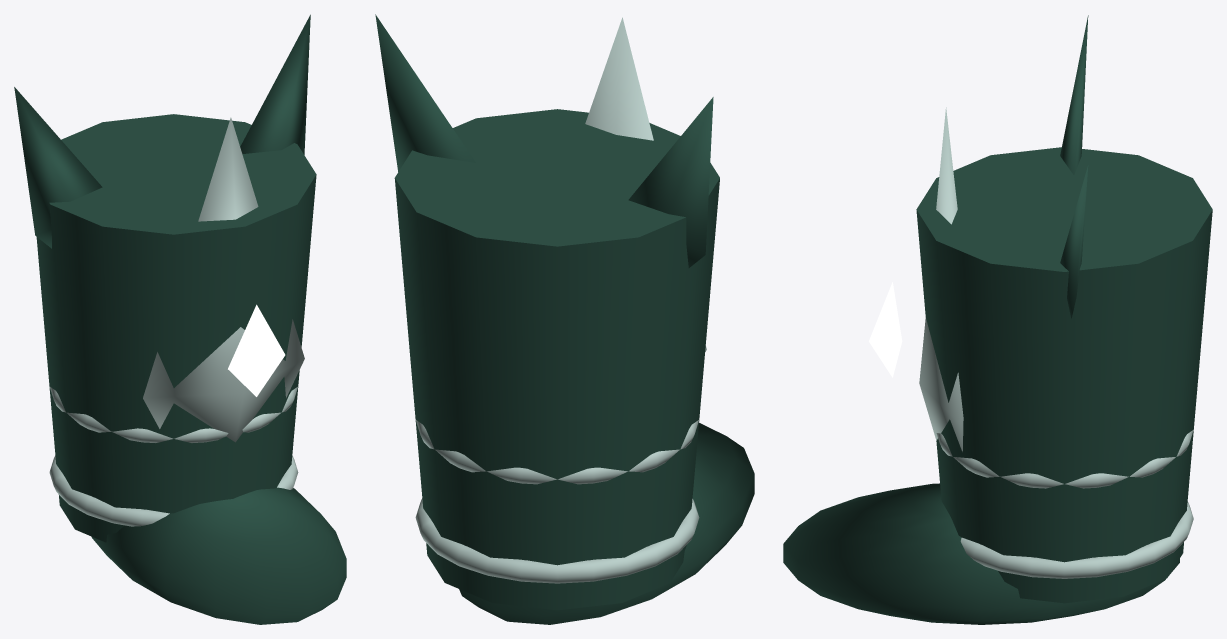
File: boss_grievance_of_the_fairy_boots_1.glb
3 views of the same model, side by side, from view 1: azimuth 30°, elevation 25°; view 2: azimuth 150°, elevation 25°; view 3: azimuth 270°, elevation 25° (orthographic). The views are drawn at different scales.
Visible parts, largest first — view 1: Boss_grievance_of_the_fairy_0, Boss_grievance_of_the_fairy_1, Boss_grievance_of_the_fairy_2; view 2: Boss_grievance_of_the_fairy_0, Boss_grievance_of_the_fairy_1; view 3: Boss_grievance_of_the_fairy_0, Boss_grievance_of_the_fairy_1, Boss_grievance_of_the_fairy_2.
Part boxes in pixels (x1,y1,x2,y2): Boss_grievance_of_the_fairy_0: [14, 14, 346, 624]; Boss_grievance_of_the_fairy_1: [49, 117, 304, 526]; Boss_grievance_of_the_fairy_2: [228, 304, 285, 396]; Boss_grievance_of_the_fairy_0: [375, 14, 754, 624]; Boss_grievance_of_the_fairy_1: [415, 17, 706, 583]; Boss_grievance_of_the_fairy_0: [783, 15, 1212, 624]; Boss_grievance_of_the_fairy_1: [919, 107, 1193, 578]; Boss_grievance_of_the_fairy_2: [869, 282, 902, 377].
Bounding box in the file's own units: 0.3 × 0.482 × 0.3624.
